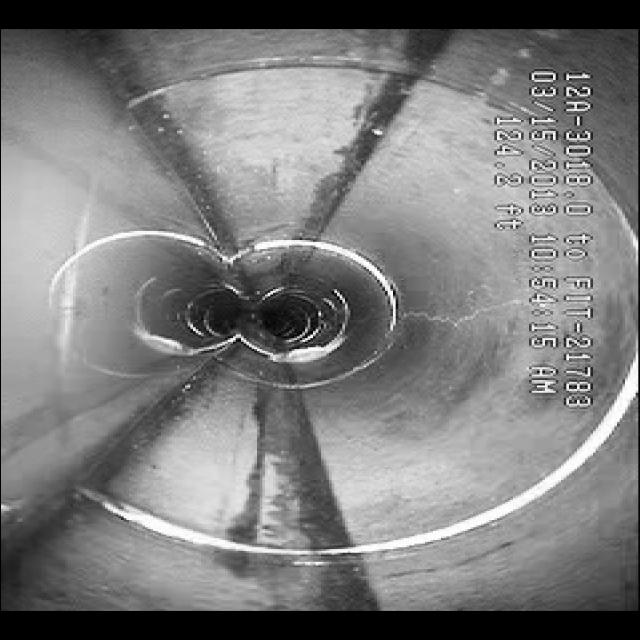Crack: (392, 304, 507, 336)
